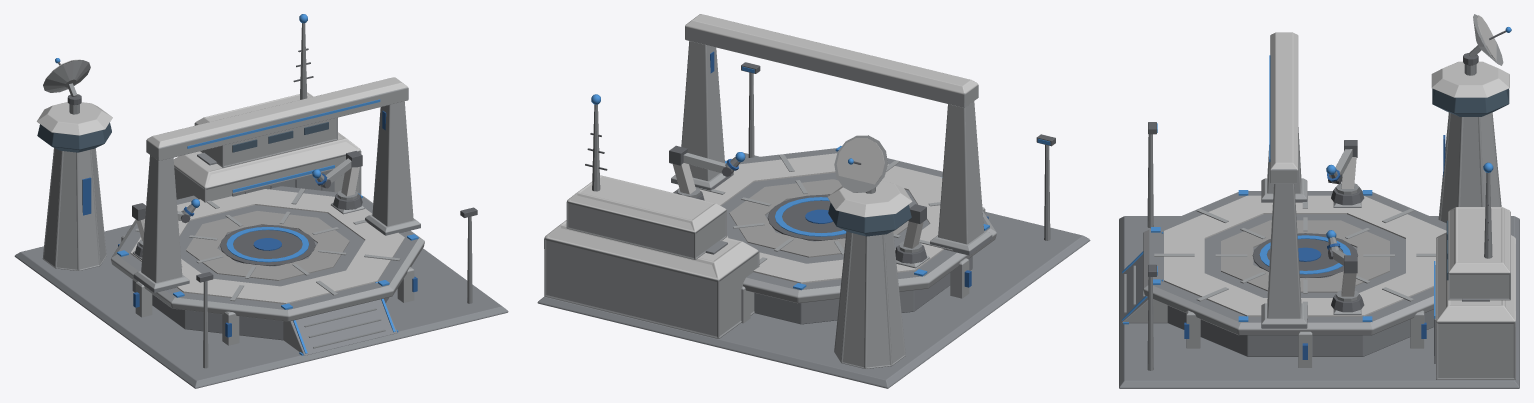
Rendered from lattice_adv_aircraft_plant.glb.
The picture shows the model from 3 angles, left to right: view 1: azimuth 30°, elevation 25°; view 2: azimuth 150°, elevation 25°; view 3: azimuth 270°, elevation 25°; orthographic projection. The views are drawn at different scales.
Visible parts, largest first — view 1: Body, Rotor_Y; view 2: Body, Rotor_Y; view 3: Body, Rotor_Y.
Part boxes in pixels (bbox=[...]): Body: bbox=[14, 14, 508, 388]; Rotor_Y: bbox=[43, 58, 90, 105]; Body: bbox=[537, 14, 1090, 388]; Rotor_Y: bbox=[834, 135, 887, 192]; Body: bbox=[1119, 32, 1519, 388]; Rotor_Y: bbox=[1463, 14, 1511, 65].
Size of the model in its own units: 22.8 by 14.03 by 22.8.
